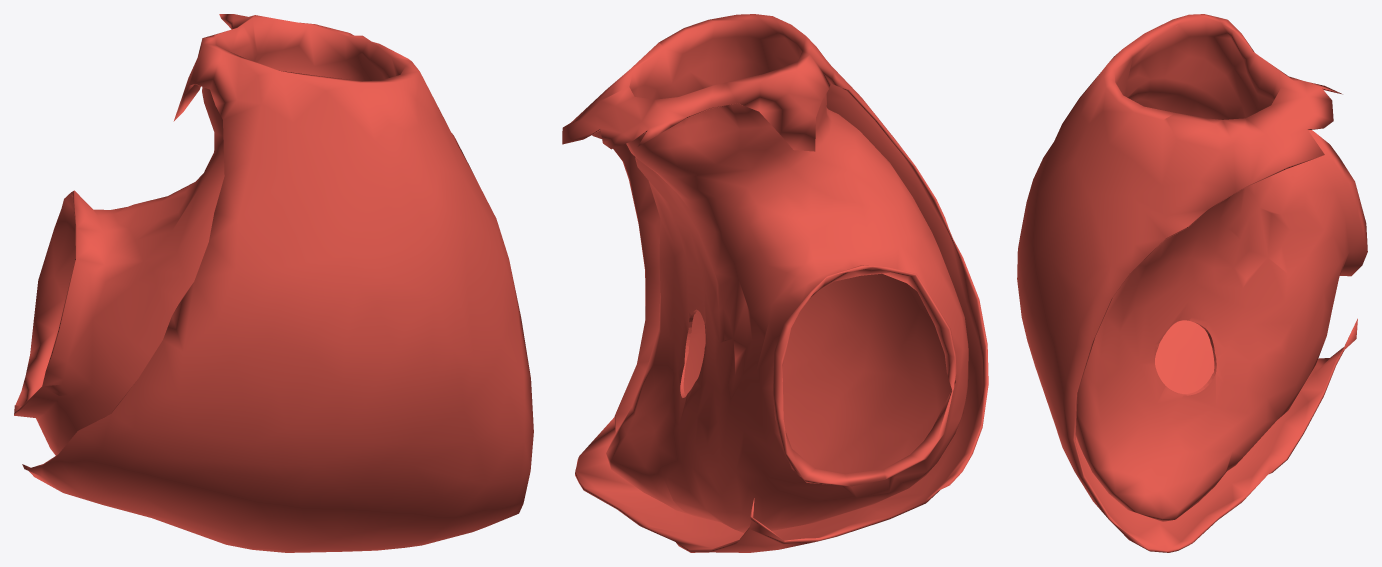
File: VSDrightven.gltf
3 renders of one model, left to right at view 1: azimuth 30°, elevation 25°; view 2: azimuth 150°, elevation 25°; view 3: azimuth 270°, elevation 25°, orthographic. The views are drawn at different scales.
Parts seen in each view (by area): view 1: Rightventricle.009; view 2: Rightventricle.009; view 3: Rightventricle.009.
Part boxes in pixels (<box>): Rightventricle.009: <box>14,14,533,552</box>; Rightventricle.009: <box>562,14,988,552</box>; Rightventricle.009: <box>1017,14,1367,552</box>.
Size of the model in its own units: 2.55 by 2.87 by 2.08.
